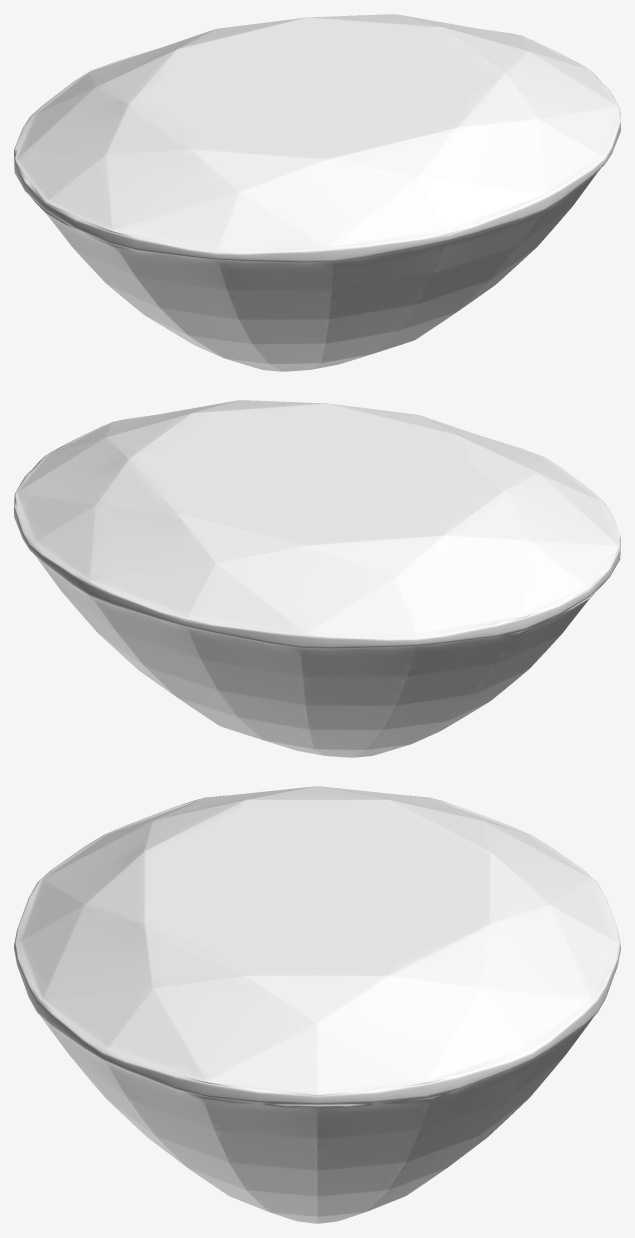
Rendered from jewelry.obj.
The picture shows the model from 3 angles, top to bottom: view 1: azimuth 30°, elevation 25°; view 2: azimuth 150°, elevation 25°; view 3: azimuth 270°, elevation 25°; orthographic projection. The views are drawn at different scales.
Visible parts, largest first — view 1: bluegem; view 2: bluegem; view 3: bluegem.
Part boxes in pixels (x1,y1,x2,y2): bluegem: [14, 14, 620, 371]; bluegem: [14, 400, 620, 757]; bluegem: [14, 786, 620, 1223].
Size of the model in its own units: 3.28 by 1.55 by 2.75.
1 material, 1 textured.
